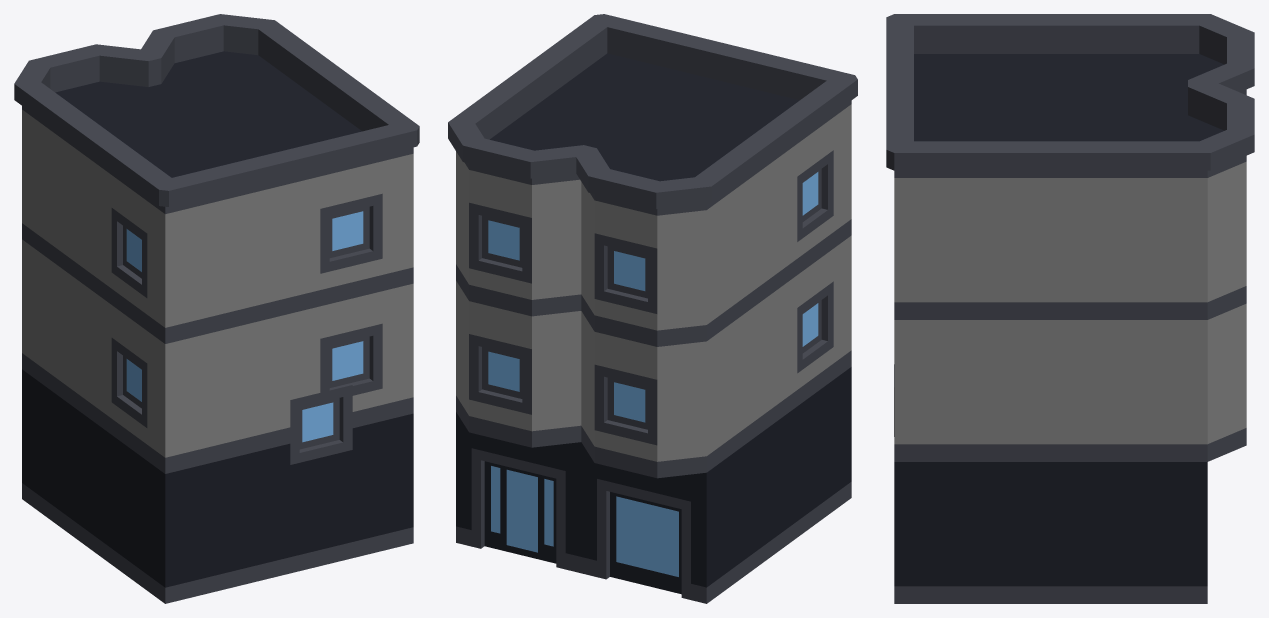
The model's file is variant_12.obj.
3 renders of one model, left to right at view 1: azimuth 30°, elevation 25°; view 2: azimuth 150°, elevation 25°; view 3: azimuth 270°, elevation 25°, orthographic. The views are drawn at different scales.
Parts seen in each view (by area): view 1: Building_copy, Window_copy; view 2: Building_copy; view 3: Building_copy.
Boxes of the visible parts, box(x1,y1,x2,y2) form: Building_copy: box(14, 14, 419, 603); Window_copy: box(290, 385, 352, 464); Building_copy: box(448, 14, 857, 603); Building_copy: box(886, 14, 1254, 603).
Size of the model in its own units: 0.84 by 1.28 by 0.94.
